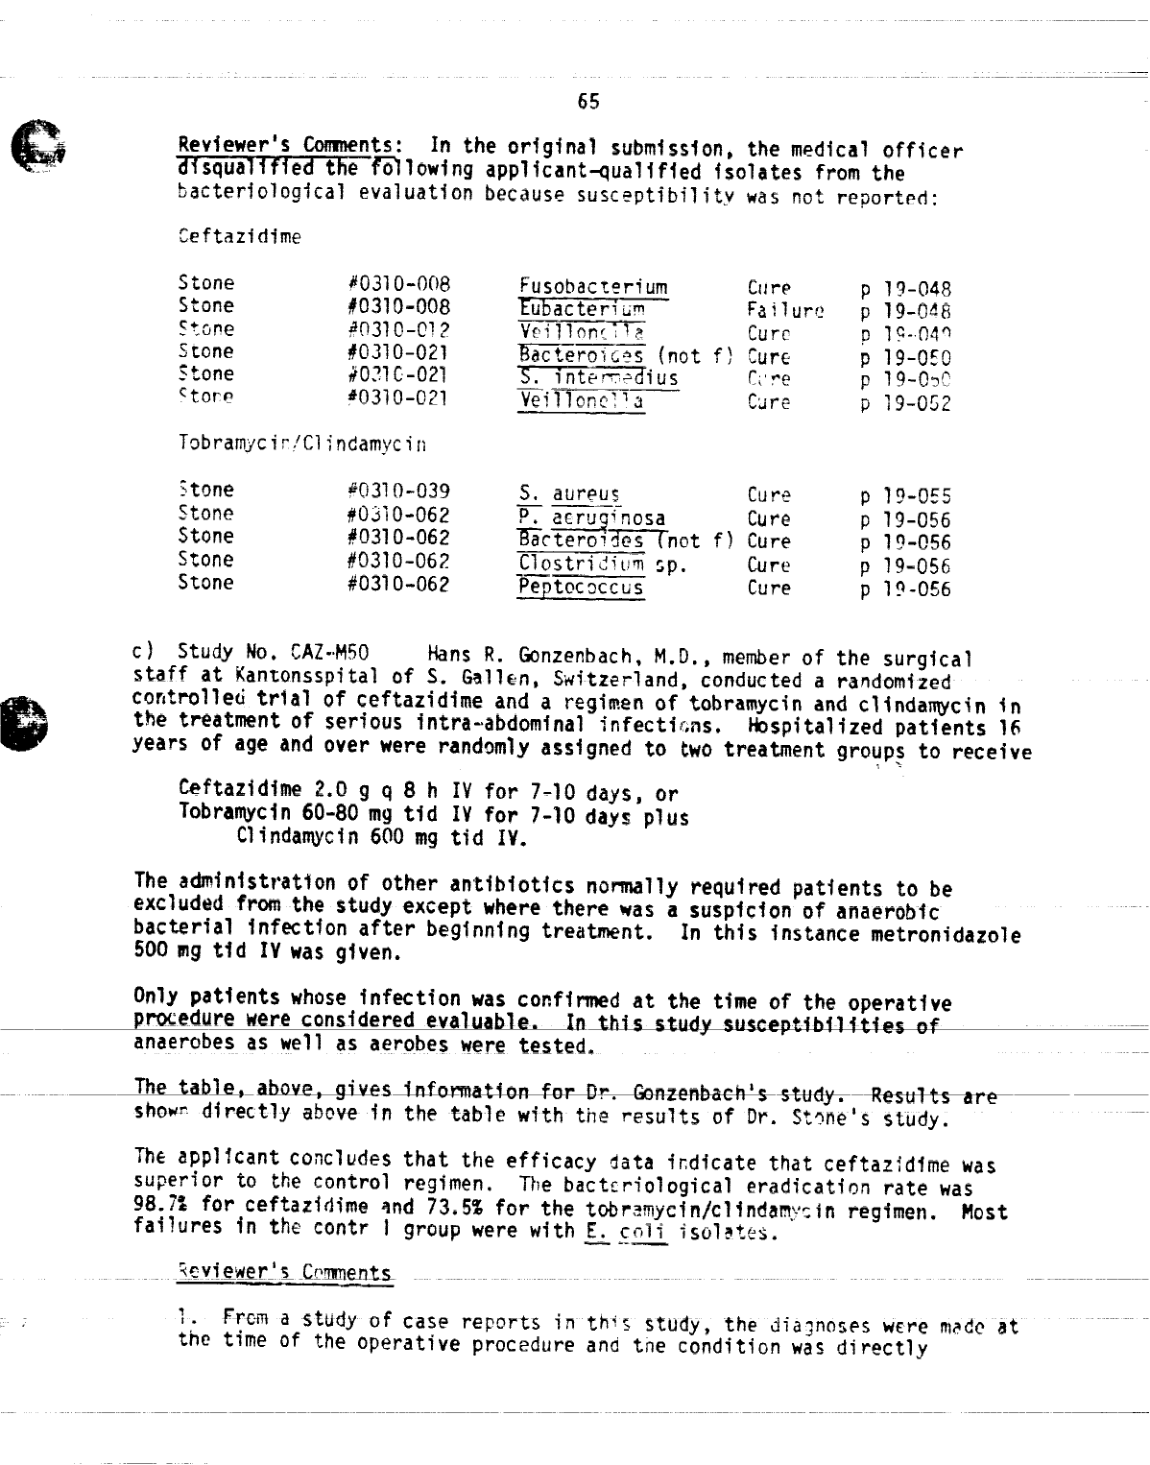nolines: (175, 270, 955, 414), (172, 477, 956, 602)
